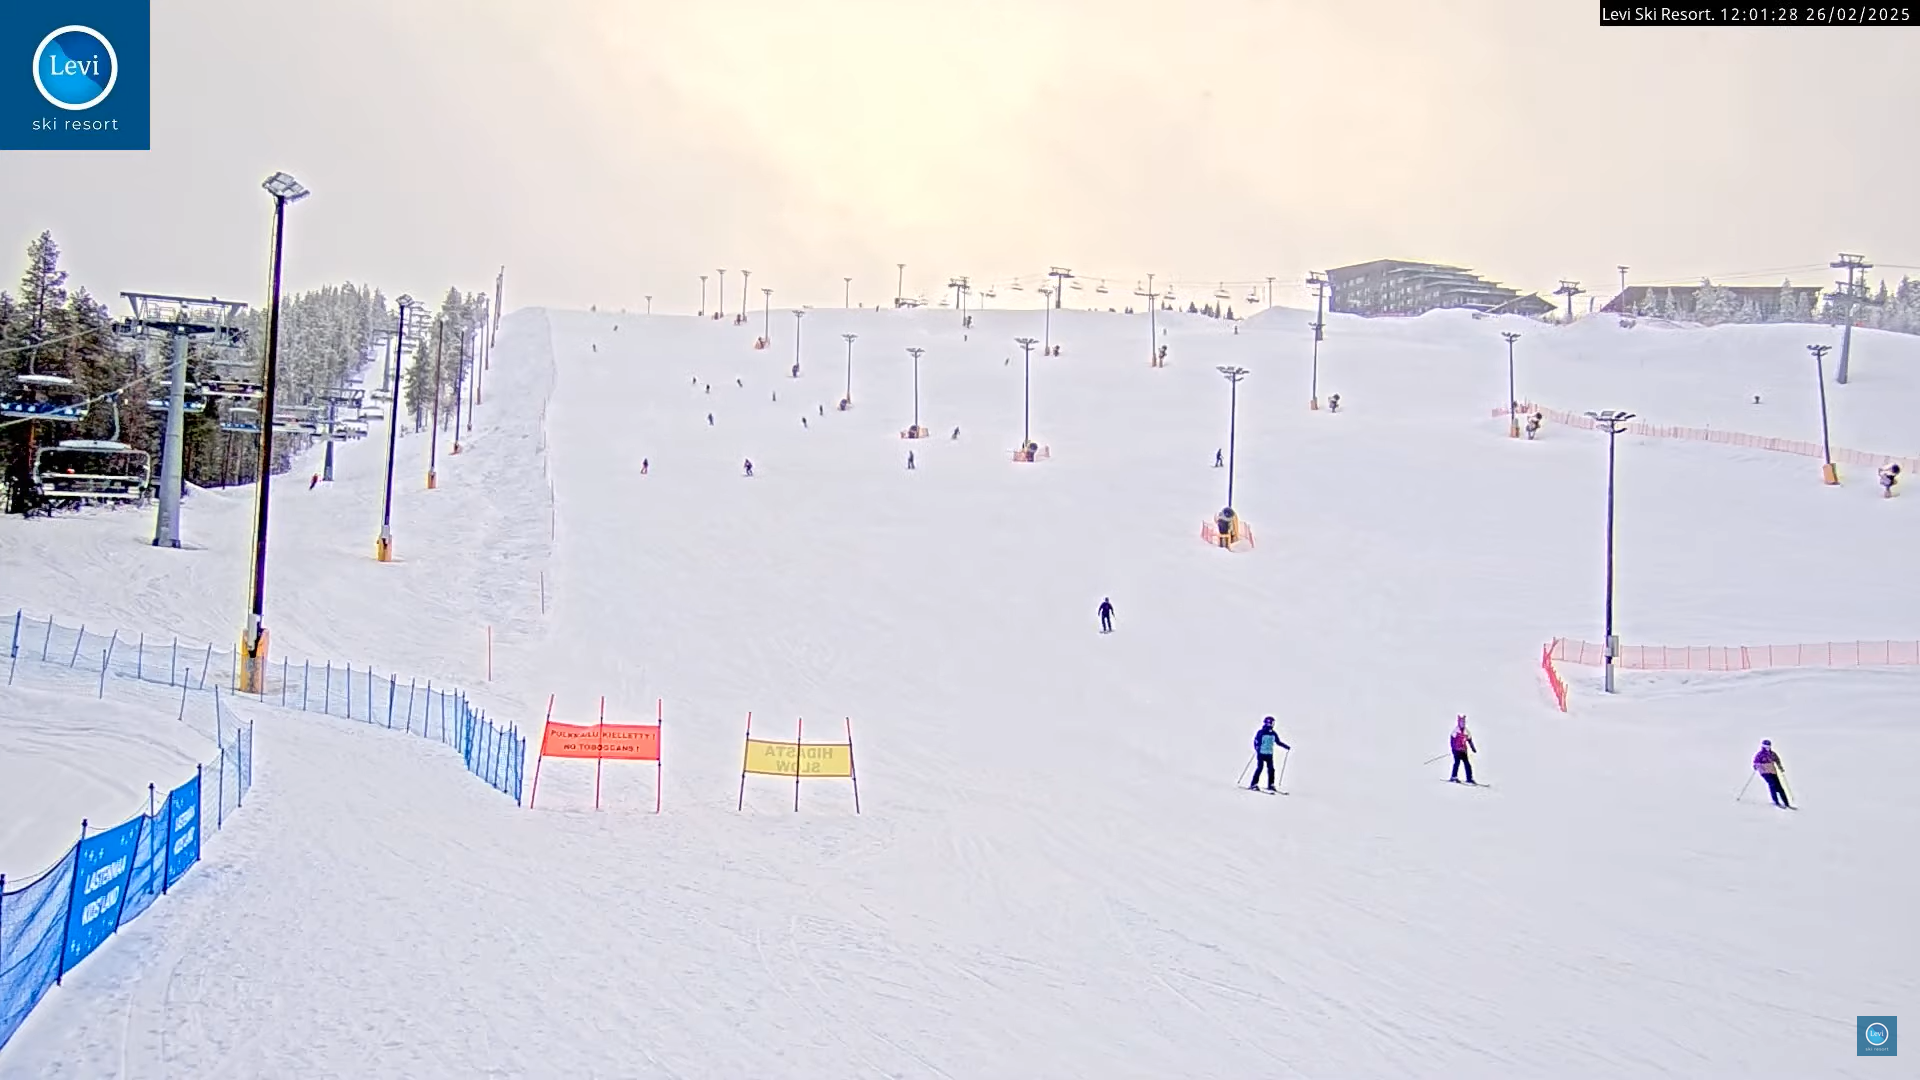skier: (1730, 738, 1803, 815), (1234, 713, 1299, 798), (1424, 715, 1495, 790)
